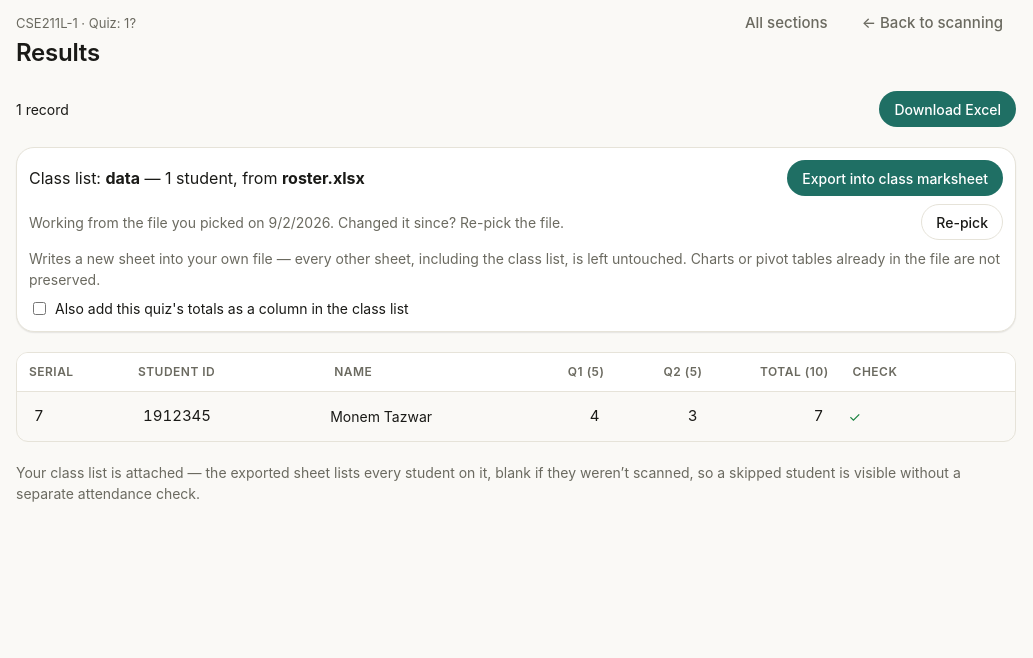
Test case: Results — class-list workbook export (12.5-12.8) › cancelling the confirm prompt writes nothing
This screenshot has width=1033, height=658.
Step 1. Click the button "Export into class marksheet" → (895, 178), box [787, 160, 1003, 196]
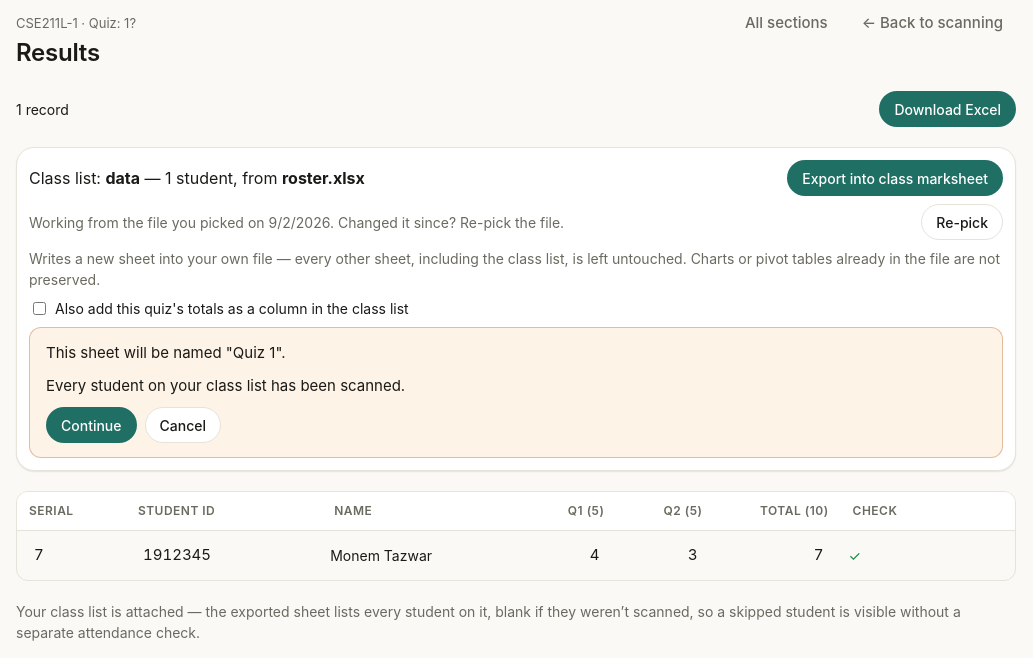
Result: the text "This sheet will be named \"Quiz 1\"." is shown at [46, 343, 286, 362]
Step 2. Click the button "Cancel" → (183, 425), box [144, 407, 221, 443]
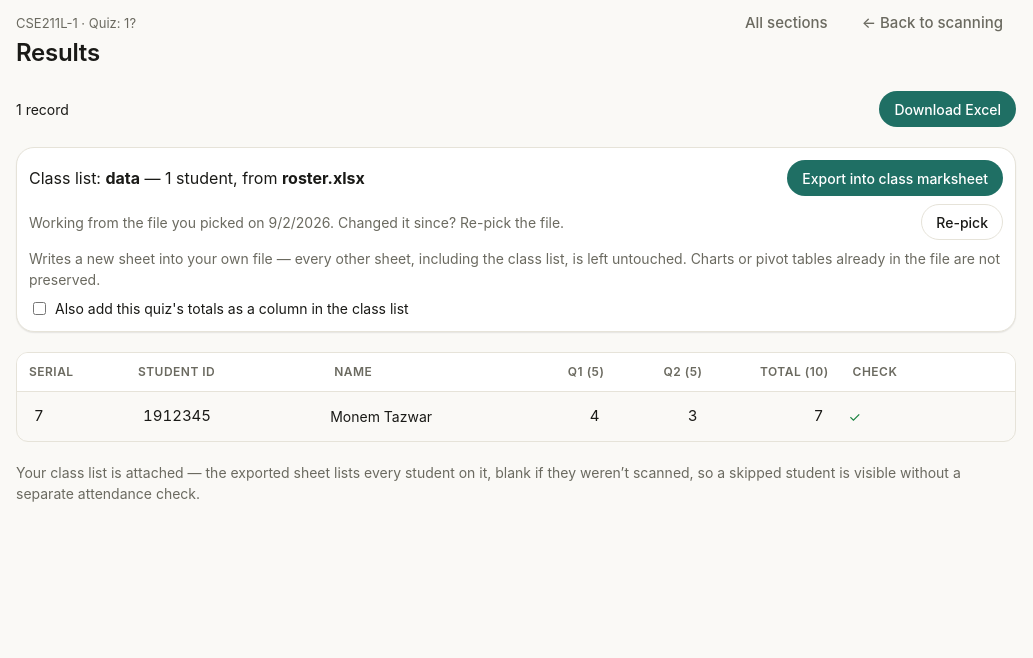
Result: the text "This sheet will be named" is gone
